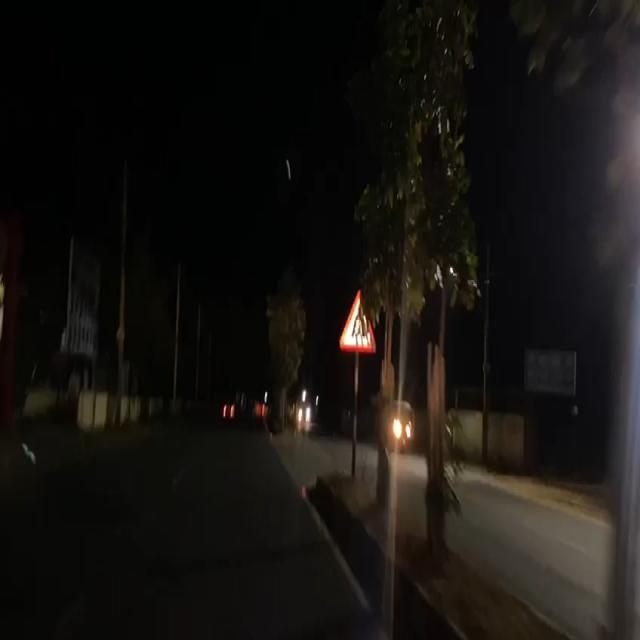bien_cam: (339, 290, 376, 356)
